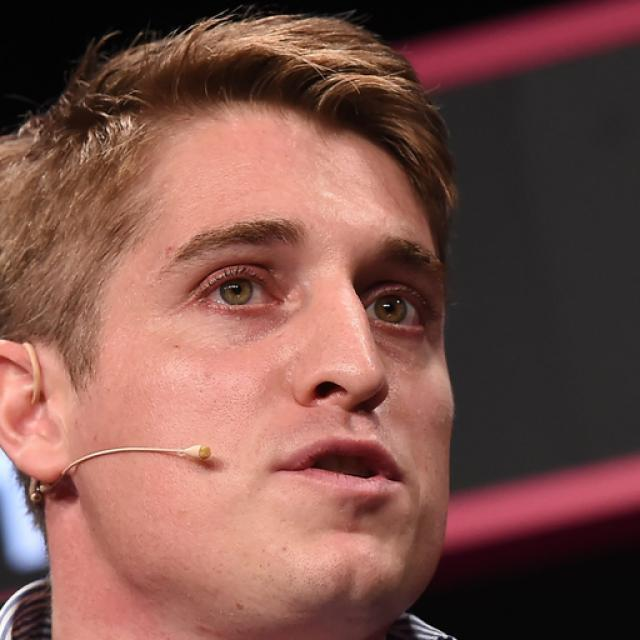surprise: (92, 90, 458, 618)
